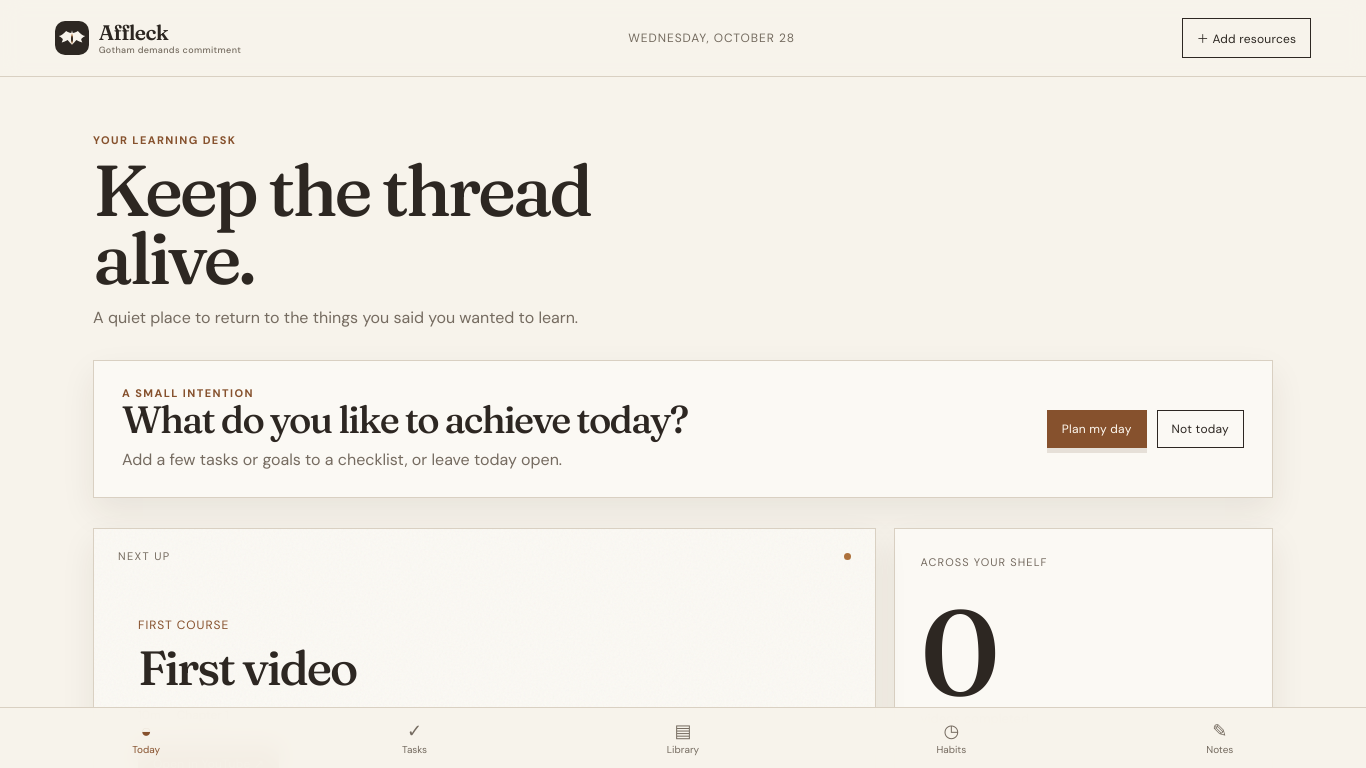
Test: group containers › removes a resource and its resource-specific note
Click the button "▤ Library" at (683, 738), box top-left (549, 717), bottom-right (817, 759)
(page scrolled)
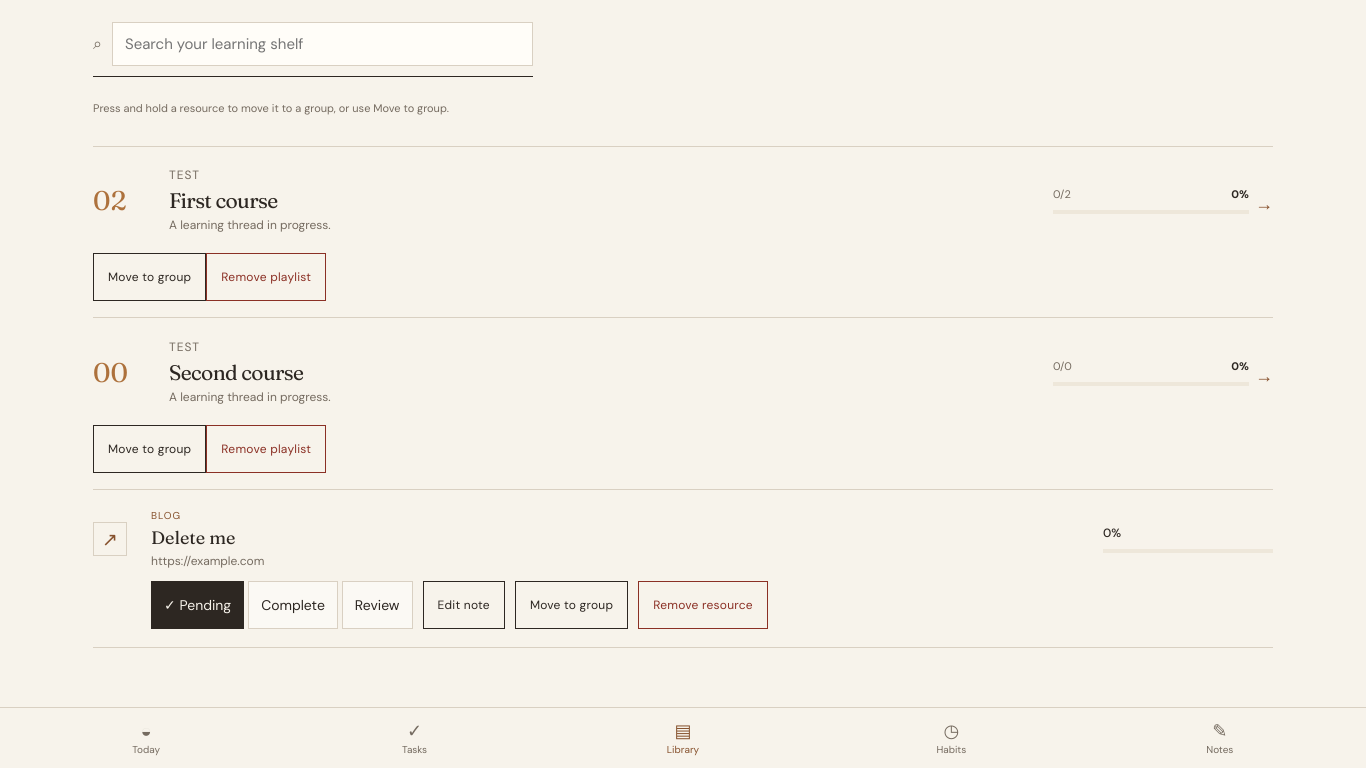
Click the button "Remove resource" at (703, 606), box top-left (638, 582), bottom-right (768, 630)
(page scrolled)
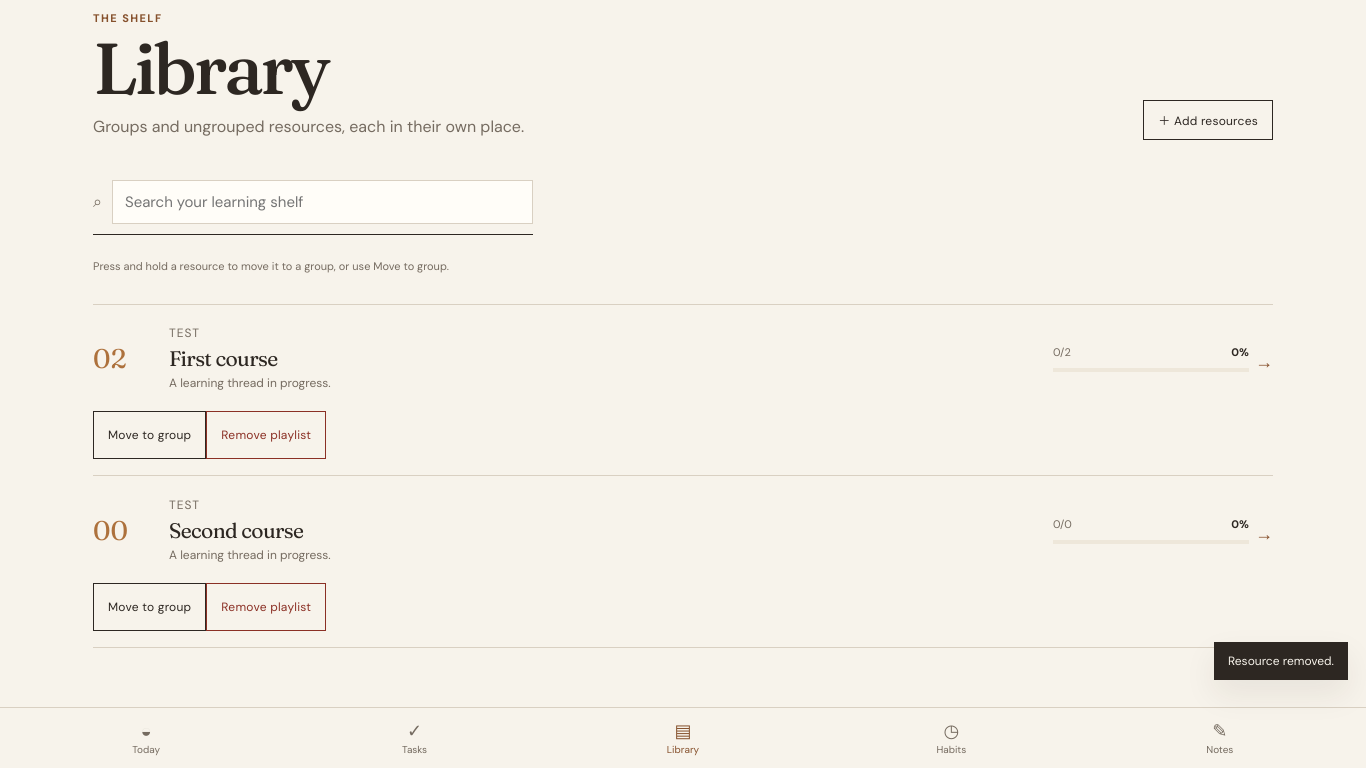
Expected: the text "Resource removed." is shown, top-left (1214, 642), bottom-right (1348, 680)
